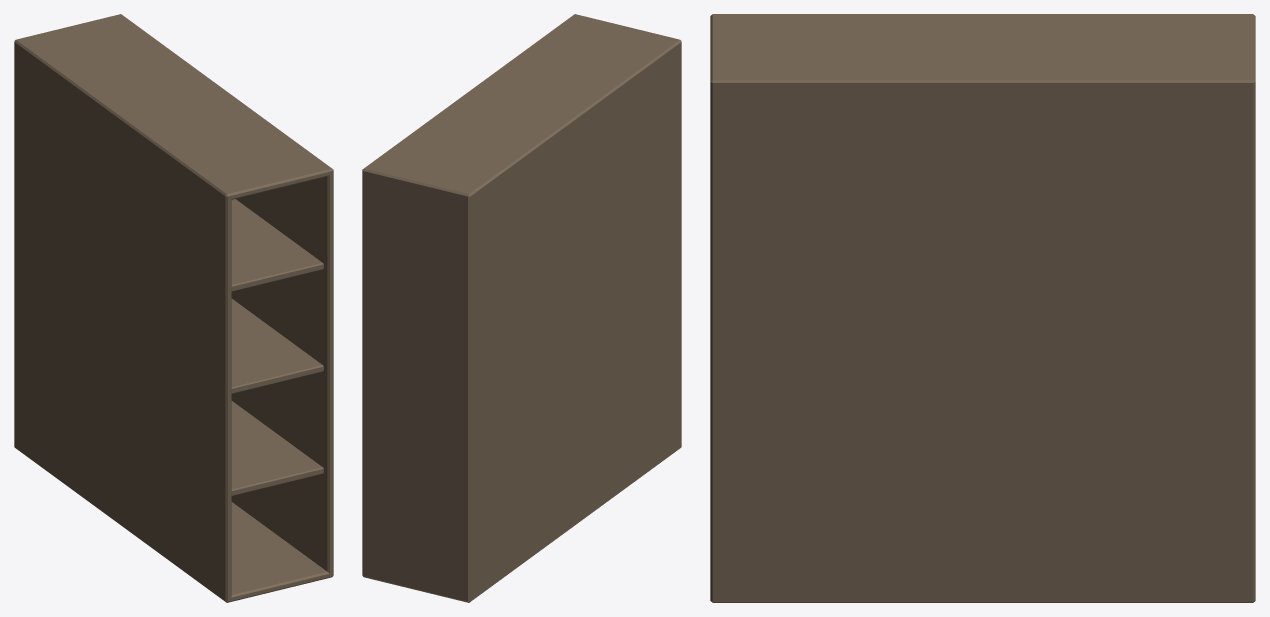
Rendered from shelf.glb.
3 views of the same model, side by side, from view 1: azimuth 30°, elevation 25°; view 2: azimuth 150°, elevation 25°; view 3: azimuth 270°, elevation 25° (orthographic). The views are drawn at different scales.
Parts seen in each view (by area): view 1: shelf; view 2: shelf; view 3: shelf.
Part boxes in pixels (x1=…): shelf: x1=14, y1=14, x2=333, y2=602; shelf: x1=362, y1=14, x2=681, y2=602; shelf: x1=710, y1=14, x2=1255, y2=602.
Size of the model in its own units: 1 by 3.6 by 3.4.
